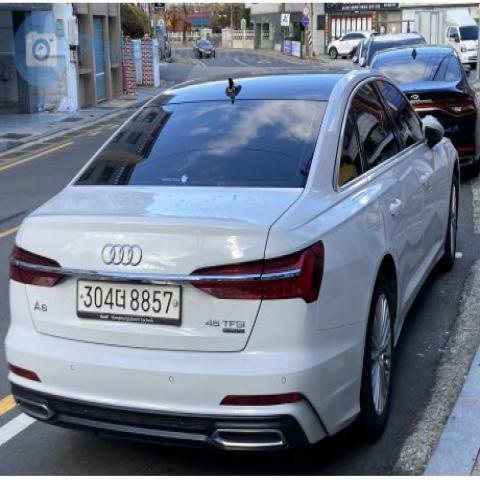LP: (72, 258, 192, 334)
